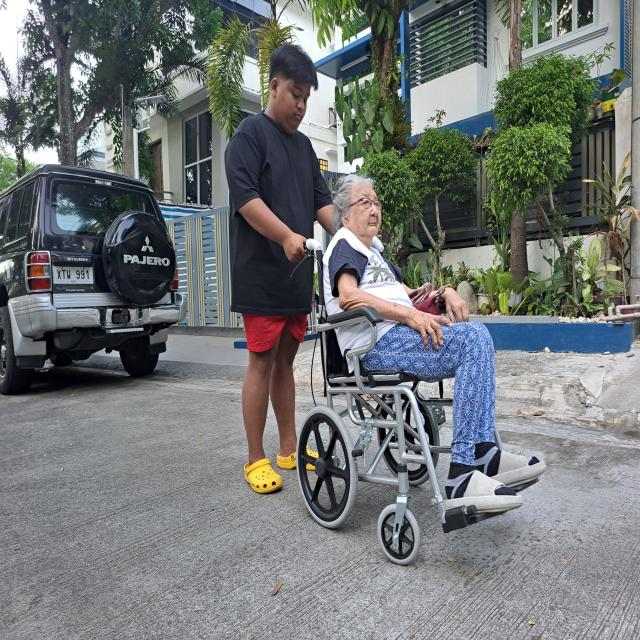wheelchairs: (292, 230, 540, 566)
